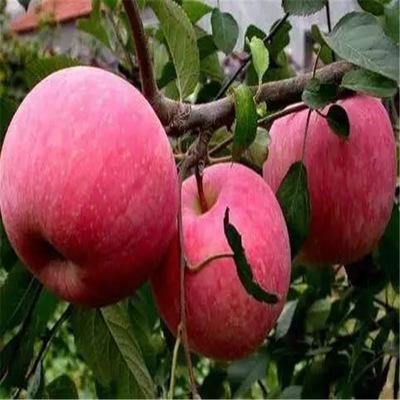apple: (3, 66, 182, 308), (153, 162, 292, 350), (263, 92, 397, 266)
